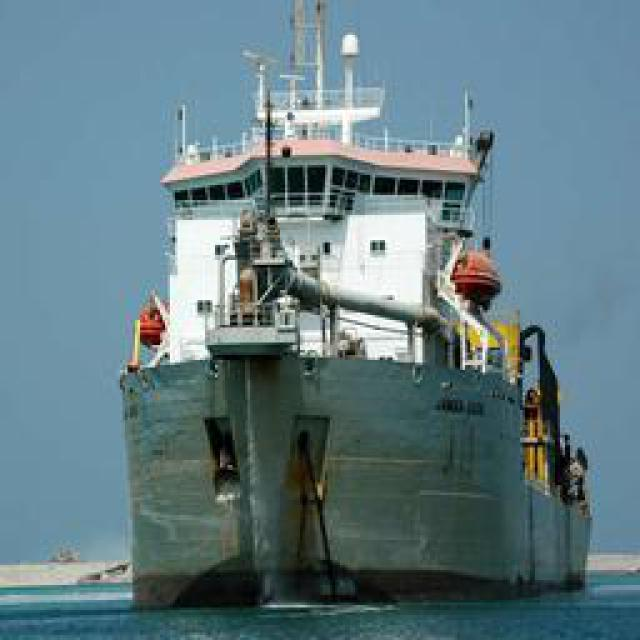Ship: (106, 18, 594, 623)
